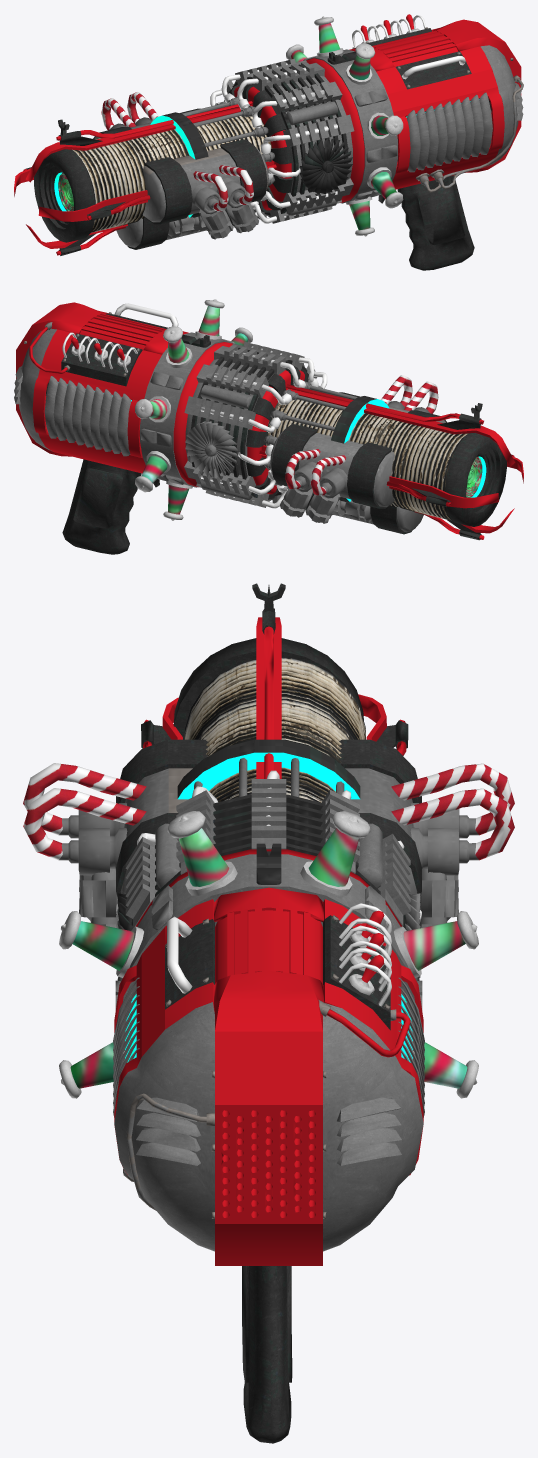
File: christmas-gun.fbx
The picture shows the model from 3 angles, top to bottom: view 1: azimuth 30°, elevation 25°; view 2: azimuth 150°, elevation 25°; view 3: azimuth 270°, elevation 25°; orthographic projection. The views are drawn at different scales.
Parts seen in each view (by area): view 1: Mesh50 Group30 Group29 Group11 Group3 Group2 Group_65_1 Grou; view 2: Mesh50 Group30 Group29 Group11 Group3 Group2 Group_65_1 Grou; view 3: Mesh50 Group30 Group29 Group11 Group3 Group2 Group_65_1 Grou.
Part boxes in pixels (<box>): Mesh50 Group30 Group29 Group11 Group3 Group2 Group_65_1 Grou: <box>14,14,523,270</box>; Mesh50 Group30 Group29 Group11 Group3 Group2 Group_65_1 Grou: <box>14,299,523,554</box>; Mesh50 Group30 Group29 Group11 Group3 Group2 Group_65_1 Grou: <box>23,583,514,1443</box>.
Bounding box in the file's own units: 95.36 × 48.89 × 42.33.
10 materials, 7 textured.
